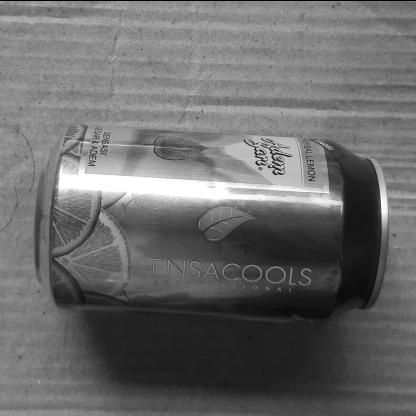alumunium_can: (15, 117, 398, 318)
